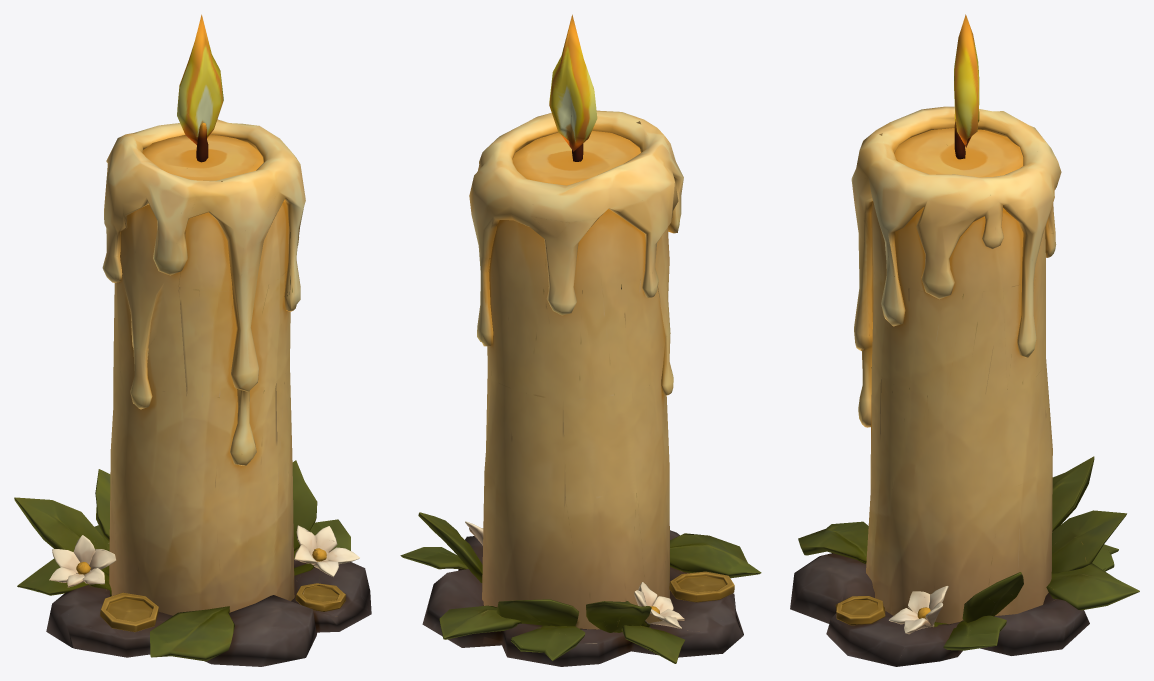
Rendered from Meshy_AI_Low_Poly_Pillar_Candle_20261110_texture.obj.
The picture shows the model from 3 angles, left to right: view 1: azimuth 30°, elevation 25°; view 2: azimuth 150°, elevation 25°; view 3: azimuth 270°, elevation 25°; orthographic projection. The views are drawn at different scales.
Parts seen in each view (by area): view 1: Meshy_AI_Low_Poly_Pillar_Candle_20261110_texture; view 2: Meshy_AI_Low_Poly_Pillar_Candle_20261110_texture; view 3: Meshy_AI_Low_Poly_Pillar_Candle_20261110_texture.
Boxes of the visible parts, x1=… form: Meshy_AI_Low_Poly_Pillar_Candle_20261110_texture: x1=14, y1=14, x2=371, y2=666; Meshy_AI_Low_Poly_Pillar_Candle_20261110_texture: x1=400, y1=14, x2=761, y2=666; Meshy_AI_Low_Poly_Pillar_Candle_20261110_texture: x1=790, y1=14, x2=1139, y2=666.
Size of the model in its own units: 0.5176 by 0.9526 by 0.5142.
Materials: 1 (1 with a texture image).
